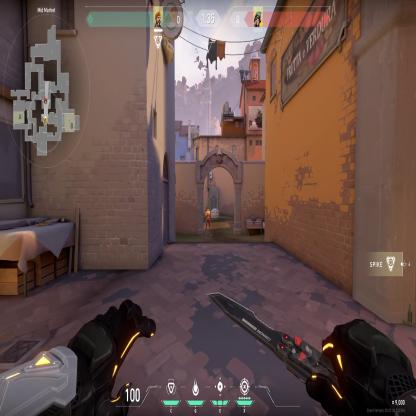enemy: (204, 206, 212, 237)
